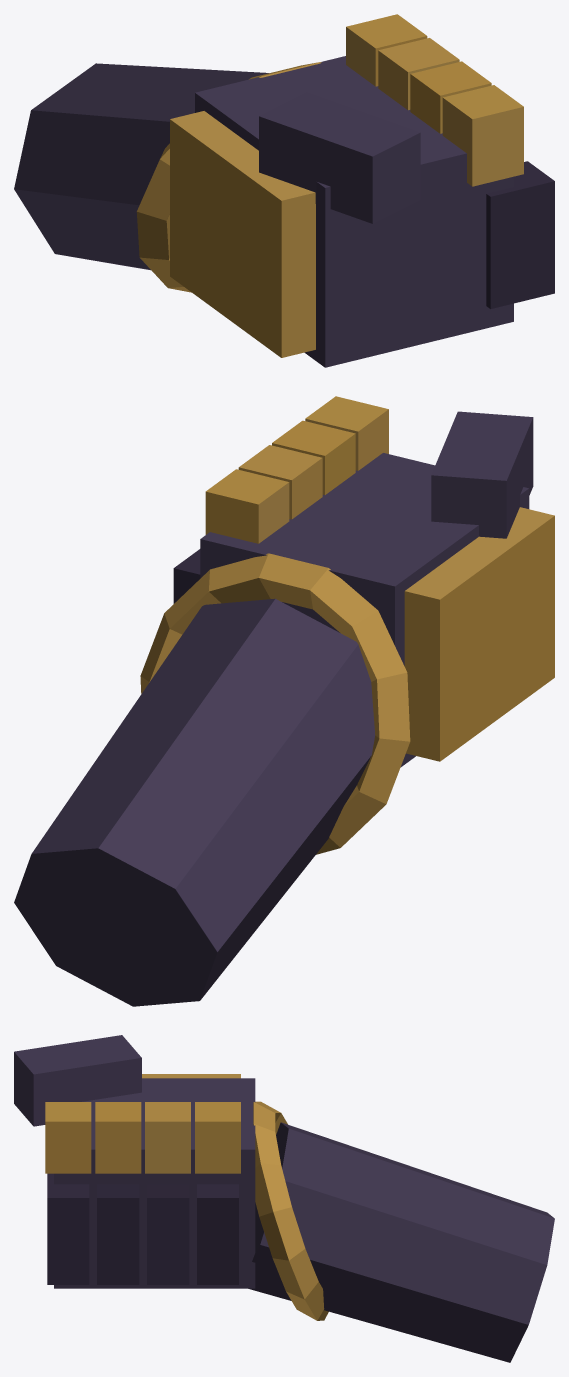
Rendered from Gauntlet_R.fbx.
3 renders of one model, top to bottom at view 1: azimuth 30°, elevation 25°; view 2: azimuth 150°, elevation 25°; view 3: azimuth 270°, elevation 25°, orthographic. The views are drawn at different scales.
Visible parts, largest first — view 1: Gauntlet_R; view 2: Gauntlet_R; view 3: Gauntlet_R.
Boxes of the visible parts, x1,y1,x2,y2 form: Gauntlet_R: [14, 14, 554, 367]; Gauntlet_R: [14, 396, 554, 1006]; Gauntlet_R: [14, 1035, 554, 1362].
Bounding box in the file's own units: 0.122 × 0.1597 × 0.2819.
